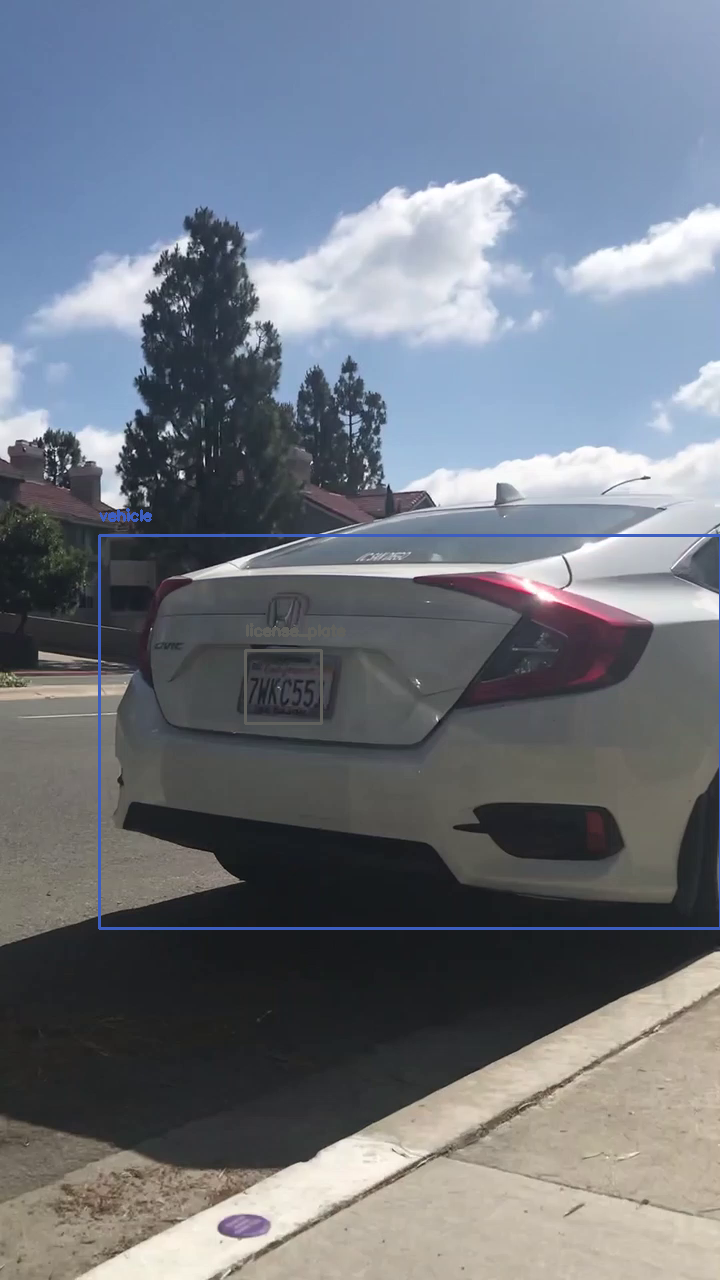license_plate: (245, 650, 321, 723)
vehicle: (99, 535, 720, 928)
